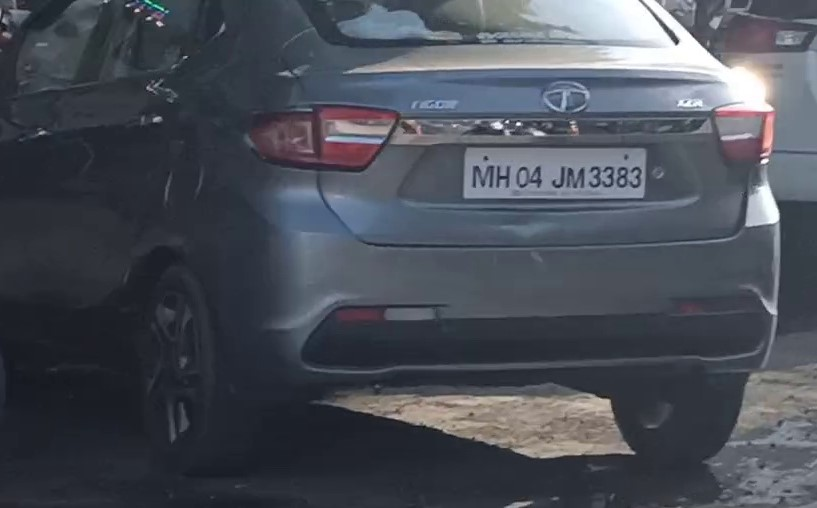MH04JM3383: (462, 147, 648, 198)
